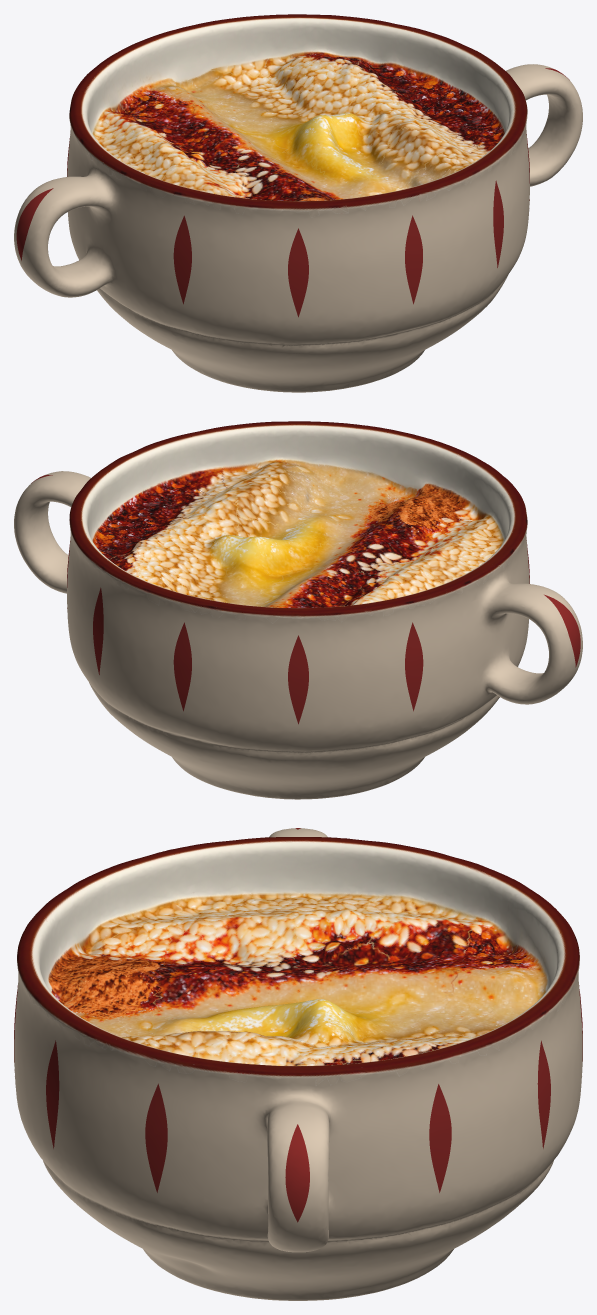
File: halim-bowl.glb
3 renders of one model, top to bottom at view 1: azimuth 30°, elevation 25°; view 2: azimuth 150°, elevation 25°; view 3: azimuth 270°, elevation 25°, orthographic. The views are drawn at different scales.
Bounding box in the file's own units: 1.9 × 0.7512 × 1.37.
3 materials, 1 textured.
